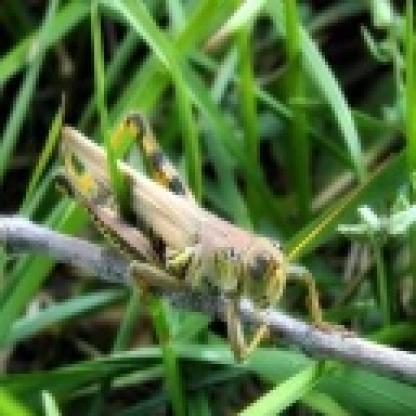grasshopper: (47, 112, 340, 358)
